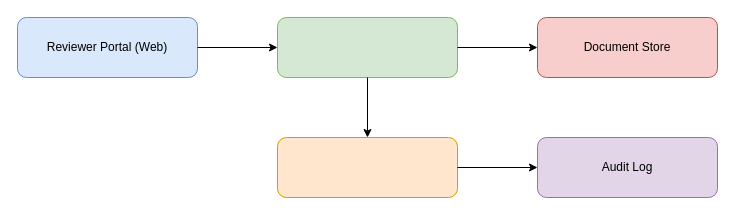
Image size: 735x215. Some labels were removed from this diagram. The centre of each missing label's shape, as x and y in pixels:
Review API: the point at 367,47
Routing Queue: the point at 367,167
